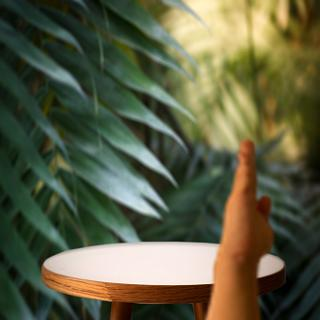RIGHT: (213, 136, 277, 264)
